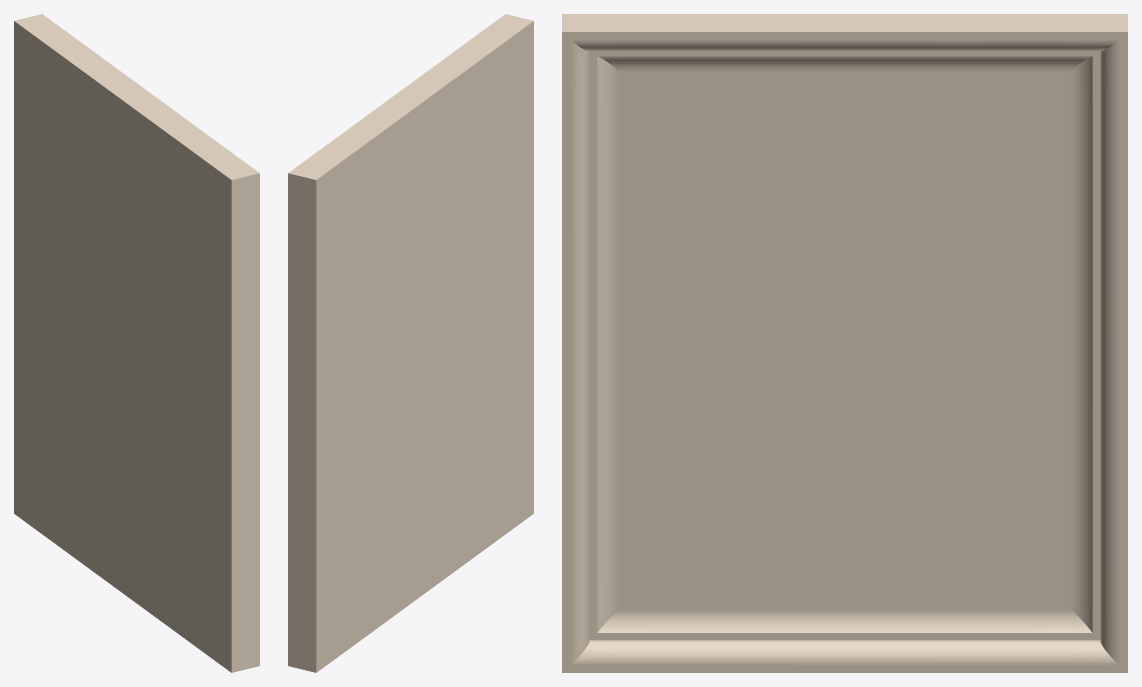
Rendered from picture frame.fbx.
3 views of the same model, side by side, from view 1: azimuth 30°, elevation 25°; view 2: azimuth 150°, elevation 25°; view 3: azimuth 270°, elevation 25° (orthographic). The views are drawn at different scales.
Visible parts, largest first — view 1: frame.001, back panel.001; view 2: frame.001, back panel.001; view 3: frame.001, back panel.001.
Part boxes in pixels (x1,y1,x2,y2): frame.001: (14,18,240,672); back panel.001: (24,14,259,670); frame.001: (307,18,533,672); back panel.001: (288,14,523,670); frame.001: (562,14,1127,609); back panel.001: (562,20,1127,672).
Bounding box in the file's own units: 1500 × 25000 × 20000.
